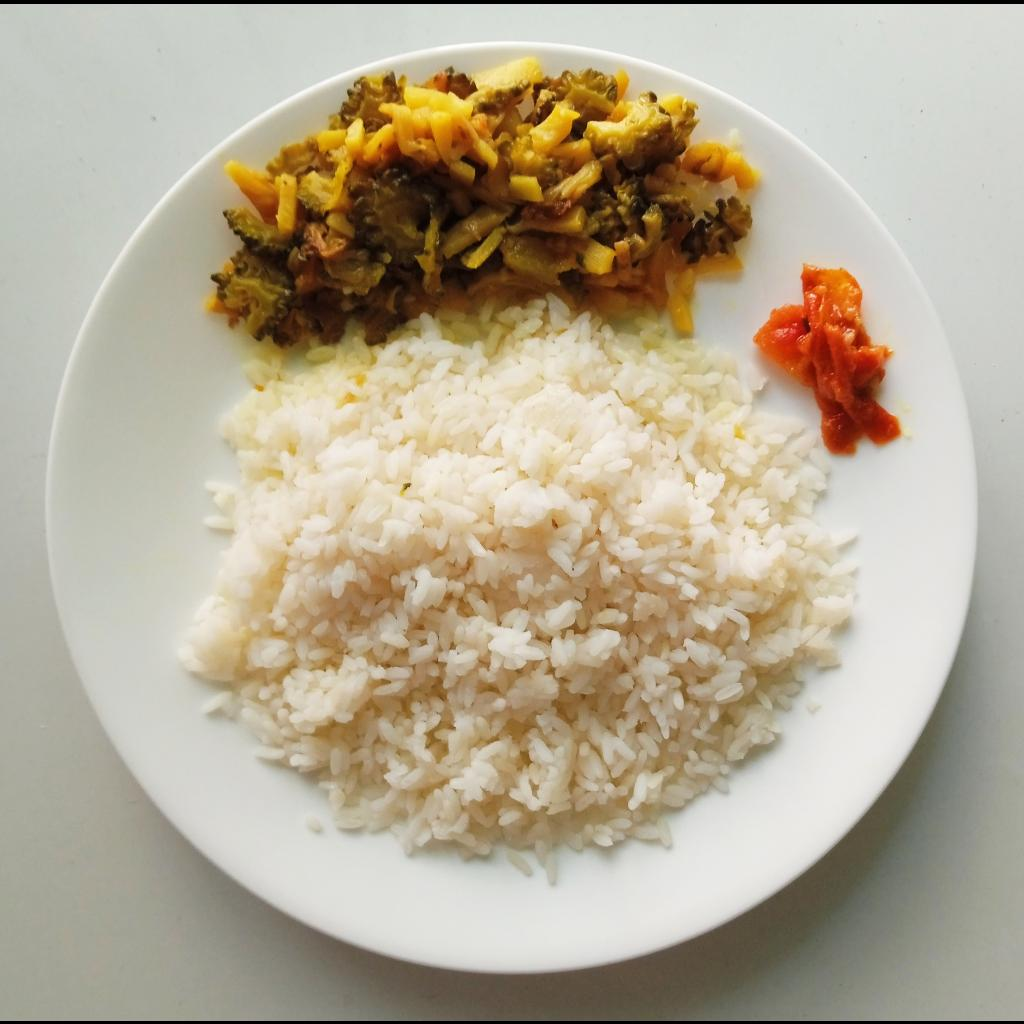korola-vaji: (203, 55, 761, 353)
rice: (182, 304, 859, 883)
tomato: (752, 266, 904, 455)
